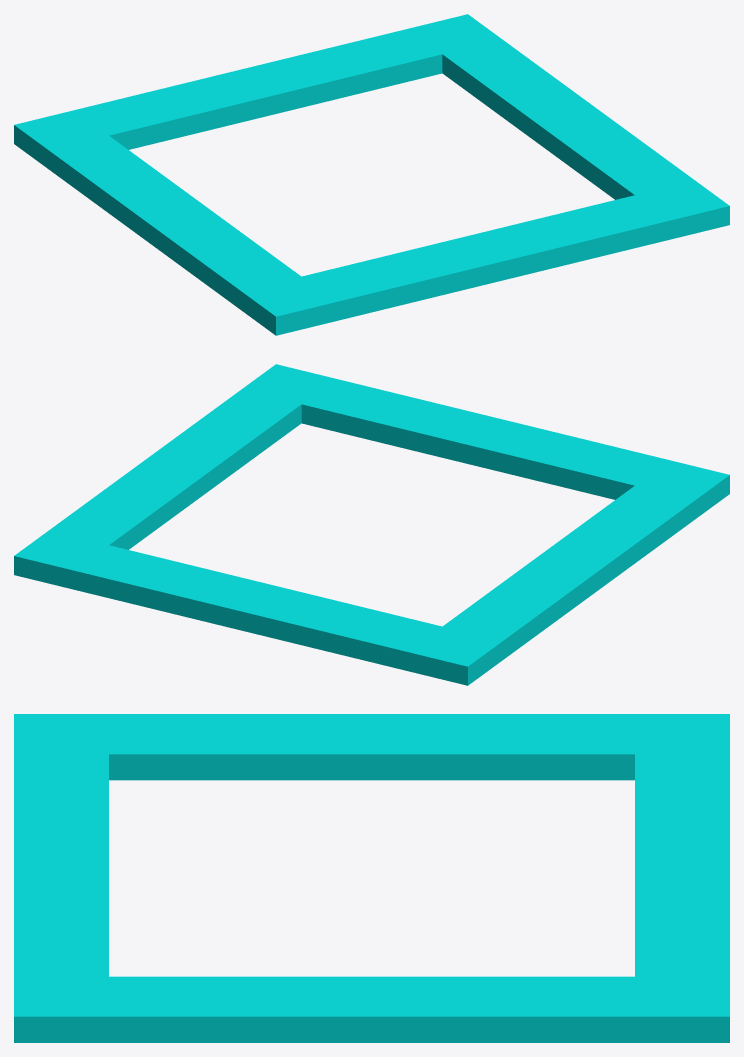
Rendered from SM_Bld_Floor_Destroyed_01_Collision.fbx.
3 views of the same model, one above another, from view 1: azimuth 30°, elevation 25°; view 2: azimuth 150°, elevation 25°; view 3: azimuth 270°, elevation 25° (orthographic). The views are drawn at different scales.
Parts seen in each view (by area): view 1: SM_Bld_Floor_Destroyed_01_Collision; view 2: SM_Bld_Floor_Destroyed_01_Collision; view 3: SM_Bld_Floor_Destroyed_01_Collision.
Boxes of the visible parts, x1,y1,x2,y2 form: SM_Bld_Floor_Destroyed_01_Collision: [14, 14, 729, 335]; SM_Bld_Floor_Destroyed_01_Collision: [14, 364, 729, 685]; SM_Bld_Floor_Destroyed_01_Collision: [14, 714, 729, 1042].
Bounding box in the file's own units: 250 × 10.06 × 250.
